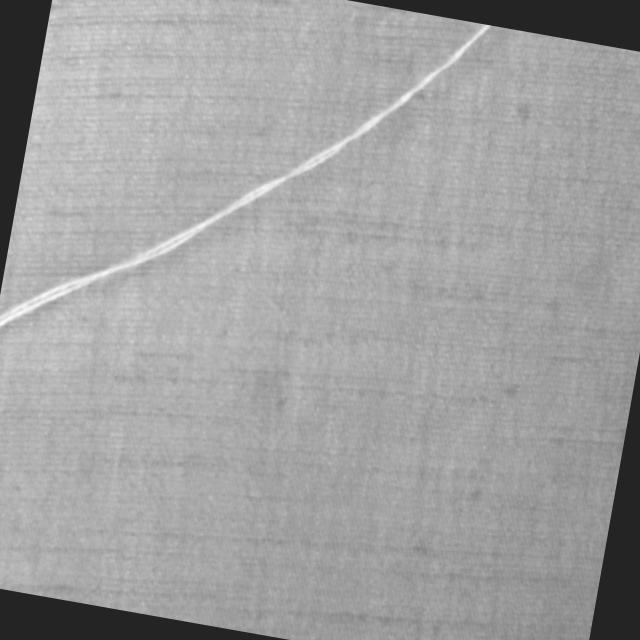objects: (0, 0, 500, 419)
